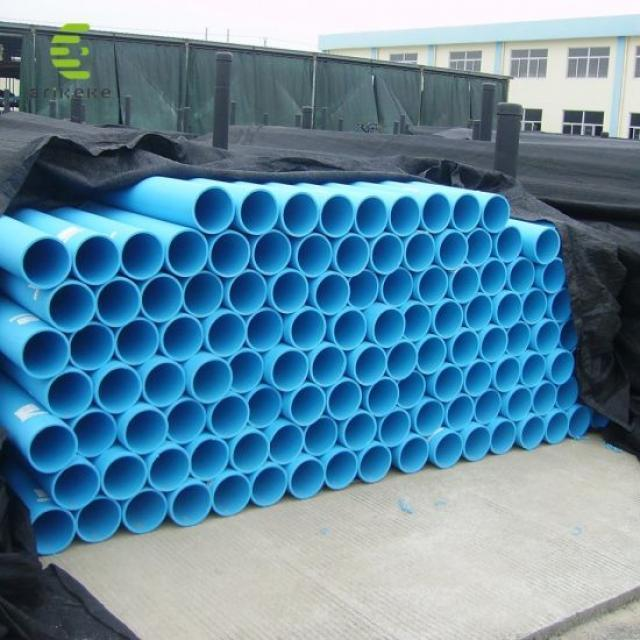pipe: (21, 237, 74, 292), (47, 369, 94, 421), (27, 426, 77, 473), (100, 456, 148, 503), (23, 329, 69, 378), (97, 364, 140, 415), (75, 239, 121, 286), (48, 283, 95, 329), (121, 232, 166, 280), (97, 277, 142, 325), (54, 465, 100, 511), (139, 275, 184, 321), (143, 363, 188, 407), (71, 325, 113, 372), (159, 321, 206, 363), (116, 318, 159, 363), (167, 231, 209, 277), (74, 413, 117, 457), (34, 511, 77, 554), (124, 411, 168, 453), (167, 401, 207, 447), (270, 267, 309, 314), (269, 347, 310, 391), (77, 500, 122, 540), (122, 493, 169, 531), (239, 192, 280, 235), (209, 231, 249, 275), (169, 484, 213, 524), (213, 474, 253, 517), (183, 271, 222, 315), (229, 269, 266, 315), (280, 193, 320, 235), (197, 188, 235, 231), (255, 231, 291, 275), (211, 313, 245, 359), (210, 398, 249, 438), (192, 437, 228, 480), (249, 306, 284, 350), (294, 237, 332, 276), (151, 451, 189, 490), (231, 348, 262, 394), (232, 435, 268, 474), (195, 361, 230, 401), (286, 389, 326, 424), (322, 195, 356, 236), (336, 235, 369, 277), (252, 470, 290, 506), (355, 196, 389, 236), (305, 418, 339, 458), (386, 340, 418, 382), (332, 312, 367, 350), (327, 380, 361, 419), (406, 229, 437, 271), (292, 310, 326, 348), (291, 462, 325, 500), (316, 275, 349, 313), (390, 194, 420, 235), (249, 389, 282, 426), (414, 337, 445, 376), (314, 348, 347, 384), (326, 453, 358, 490), (482, 193, 510, 235), (380, 271, 413, 306), (412, 401, 445, 436), (271, 426, 303, 462), (371, 238, 402, 275), (433, 432, 464, 469), (438, 233, 471, 267), (416, 269, 448, 304), (349, 273, 380, 309), (454, 193, 481, 234), (381, 409, 410, 447), (358, 447, 391, 480), (356, 348, 388, 382), (464, 231, 494, 267), (345, 413, 375, 449), (423, 196, 452, 233), (368, 380, 397, 417), (400, 438, 428, 476), (373, 311, 405, 344), (433, 367, 465, 400), (451, 267, 481, 302), (431, 306, 464, 337), (533, 382, 562, 417), (463, 428, 494, 460), (533, 228, 561, 262), (404, 304, 432, 338), (452, 329, 478, 365), (480, 329, 506, 365), (395, 378, 427, 407), (497, 227, 525, 260), (506, 261, 535, 292), (538, 261, 567, 292), (466, 296, 493, 329), (481, 260, 506, 295), (494, 296, 522, 327), (468, 362, 492, 397), (494, 357, 521, 388), (546, 409, 571, 442), (551, 350, 573, 387), (449, 401, 475, 431), (478, 391, 501, 424), (536, 323, 561, 353), (521, 421, 545, 452), (571, 407, 594, 439), (491, 424, 515, 454), (519, 358, 545, 385), (508, 388, 529, 420), (550, 294, 573, 322), (525, 293, 545, 323), (509, 326, 528, 355)
